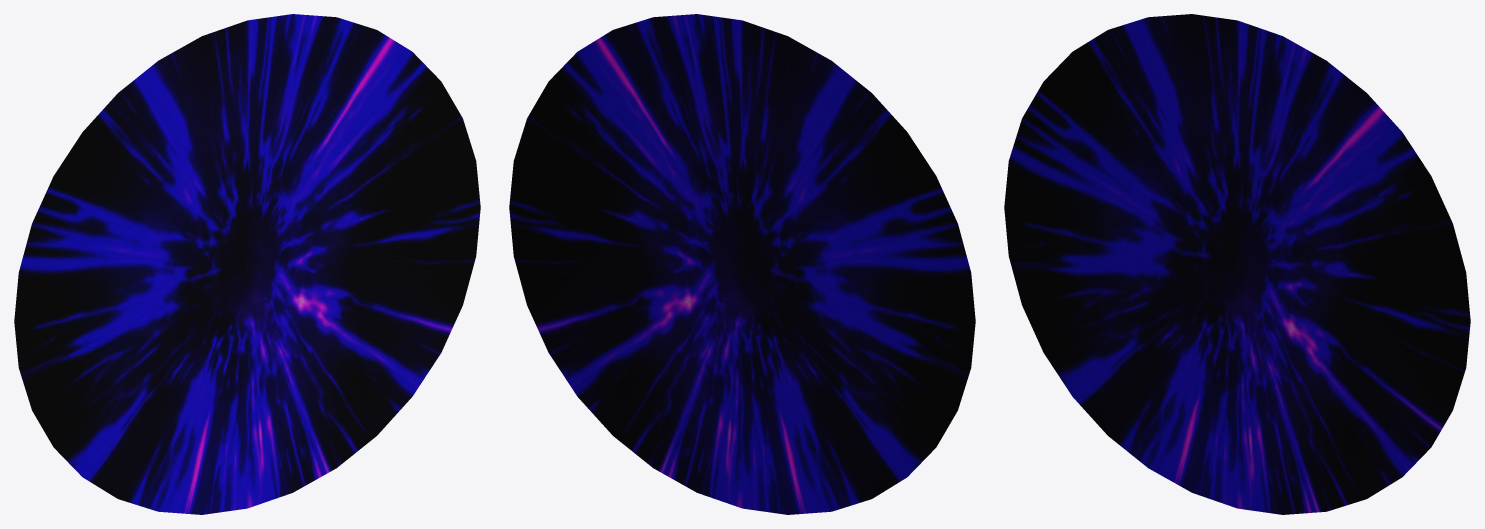
Rendered from Portal_Blue_Orange.fbx.
3 views of the same model, side by side, from view 1: azimuth 30°, elevation 25°; view 2: azimuth 150°, elevation 25°; view 3: azimuth 330°, elevation 25° (orthographic).
Visible parts, largest first — view 1: Blue; view 2: Blue; view 3: Blue.
Part boxes in pixels (bbox=[...]): Blue: bbox=[14, 14, 480, 514]; Blue: bbox=[509, 14, 975, 514]; Blue: bbox=[1004, 14, 1470, 514].
Size of the model in its own units: 92.08 by 92.08 by 1.5e-05.
